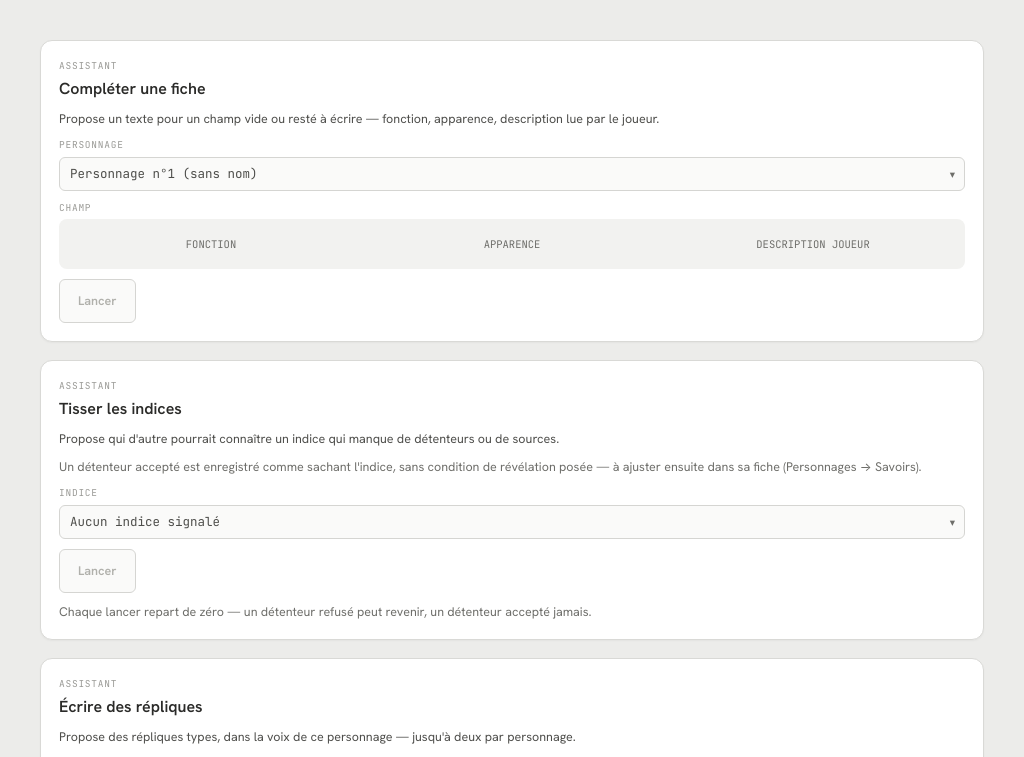
Scenario: PanneauCopilote - chargement, Annuler, Echap (carte 1) › Echap agit comme Annuler : la region disparait, Lancer redevient actif et reprend le focus
Click the radio button labelled "FONCTION" at (211,244), box top-left (62, 222), bottom-right (360, 266)
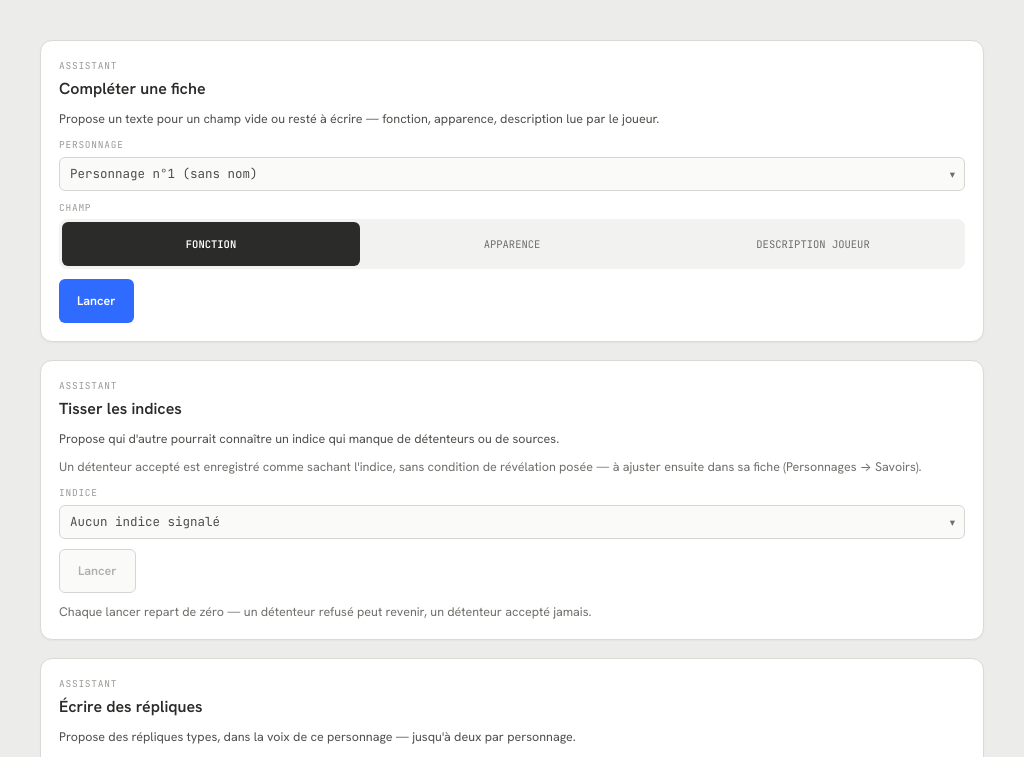
Click the button "Lancer" below "Compléter une fiche" at (96,301), box top-left (59, 279), bottom-right (134, 323)
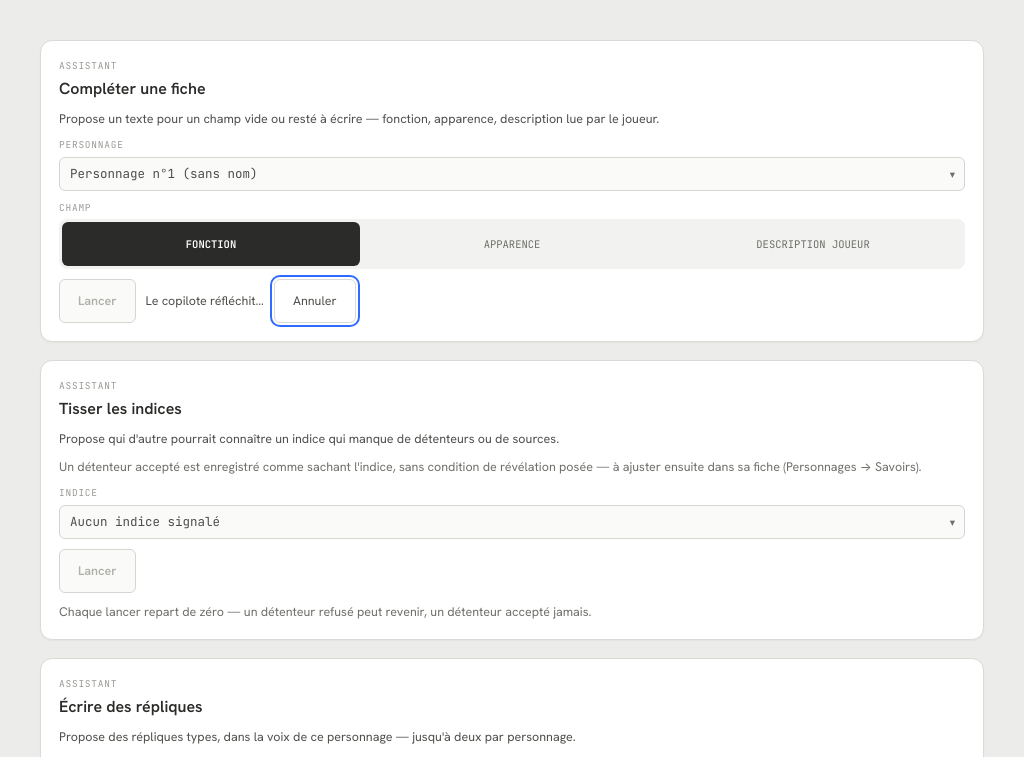
Press Escape in the message "Le copilote réfléchit… Annuler", box top-left (146, 279), bottom-right (356, 323)
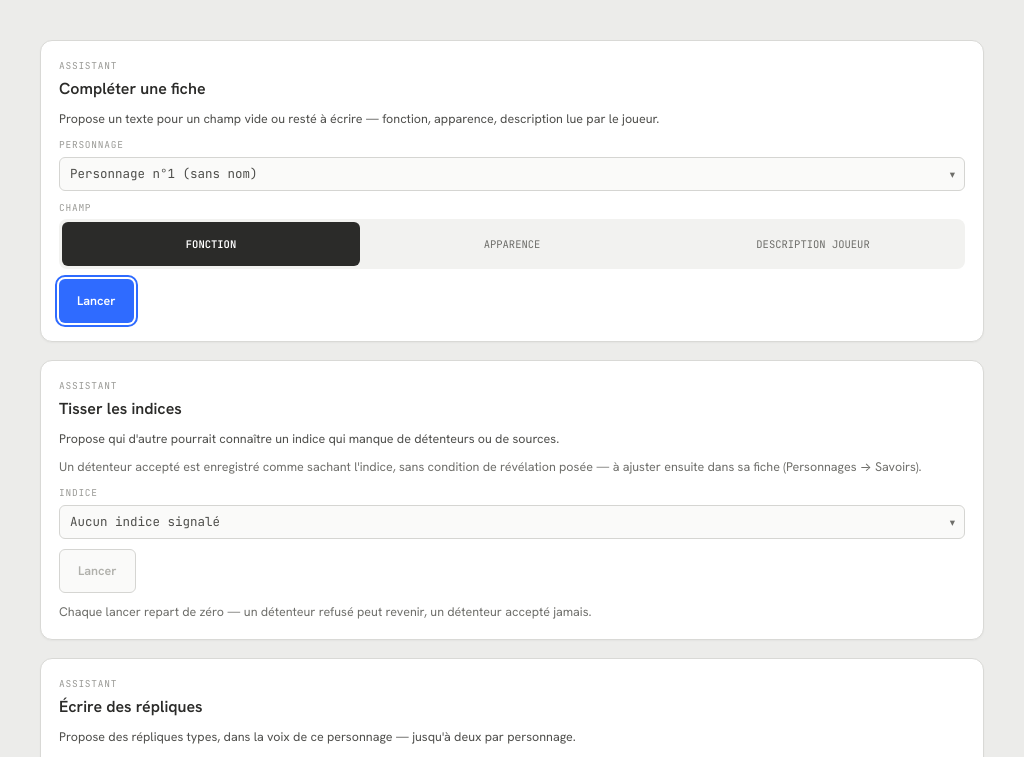
Now the message "Le copilote réfléchit… Annuler" is gone
Now the button "Lancer" below "Compléter une fiche" is enabled, box top-left (59, 279), bottom-right (134, 323)
